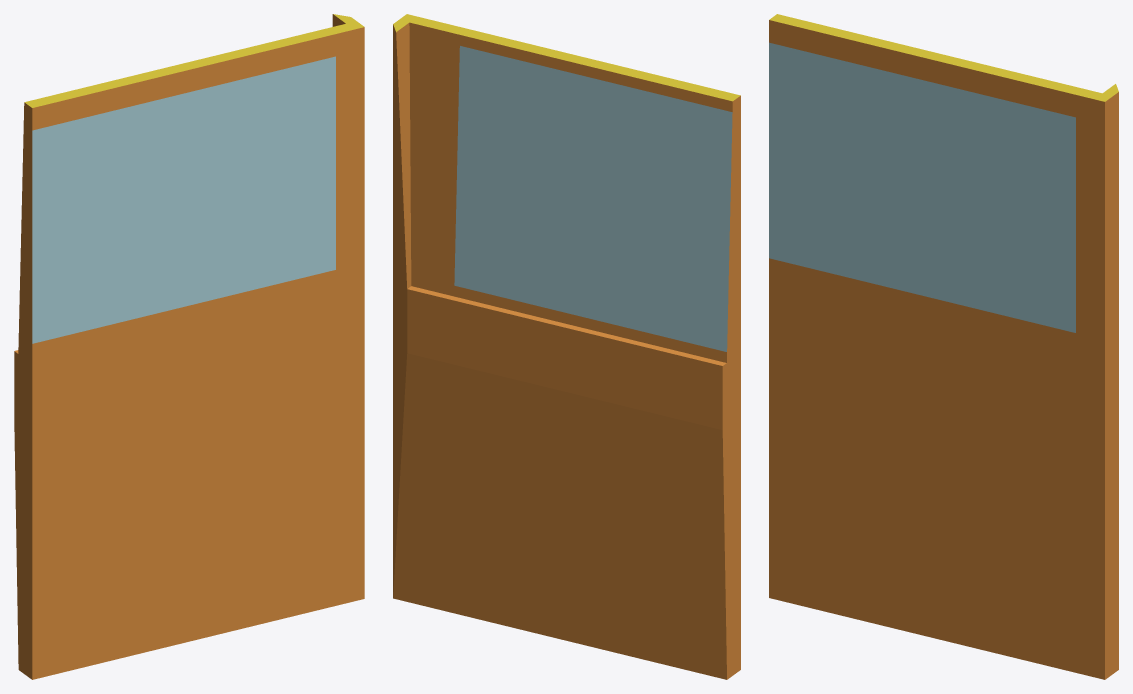
File: rear_right_window_of_the_bus.fbx
The picture shows the model from 3 angles, left to right: view 1: azimuth 30°, elevation 25°; view 2: azimuth 150°, elevation 25°; view 3: azimuth 330°, elevation 25°; orthographic projection.
Parts seen in each view (by area): view 1: Cube.050; view 2: Cube.050; view 3: Cube.050.
Part boxes in pixels (x1,y1,x2,y2): Cube.050: (14,14,364,679); Cube.050: (393,14,740,679); Cube.050: (769,14,1118,679).
Bounding box in the file's own units: 94.88 × 156 × 10.55.
